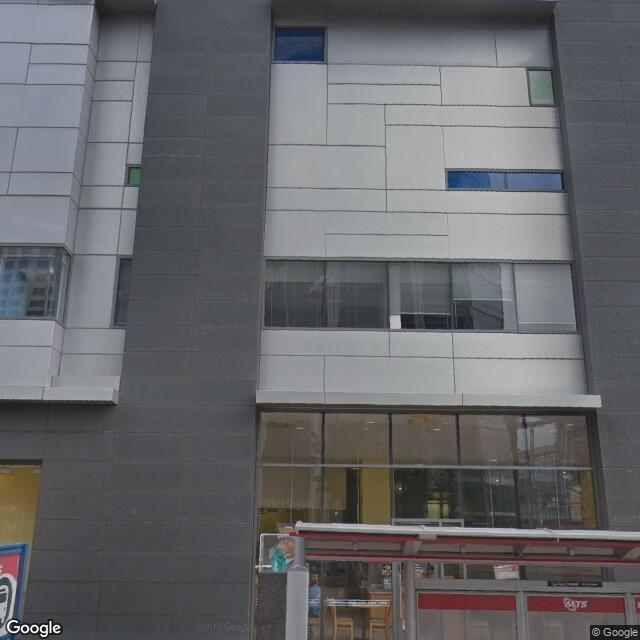window: (323, 252, 390, 335), (393, 405, 462, 475), (319, 407, 385, 480), (392, 256, 452, 335), (510, 264, 578, 333)
